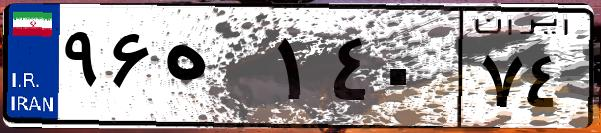0: (385, 28, 445, 110)
1: (270, 28, 330, 110)
4: (330, 28, 385, 110), (525, 38, 570, 115)
6: (110, 28, 158, 98)
7: (475, 38, 525, 113)
9: (57, 26, 110, 100)
ه: (158, 20, 270, 120)
